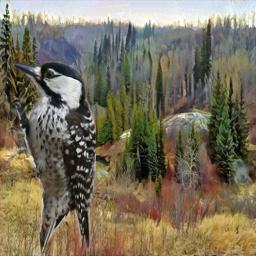Woodpecker: (1, 60, 96, 256)
